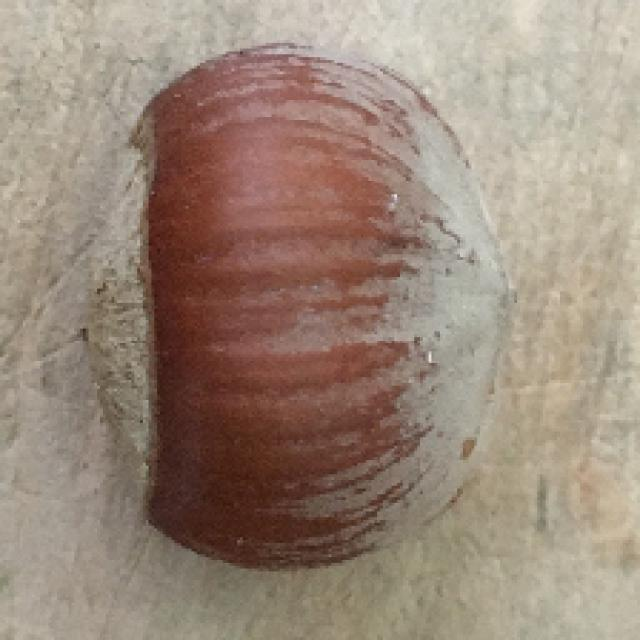qualityHazelnut: (84, 41, 512, 568)
